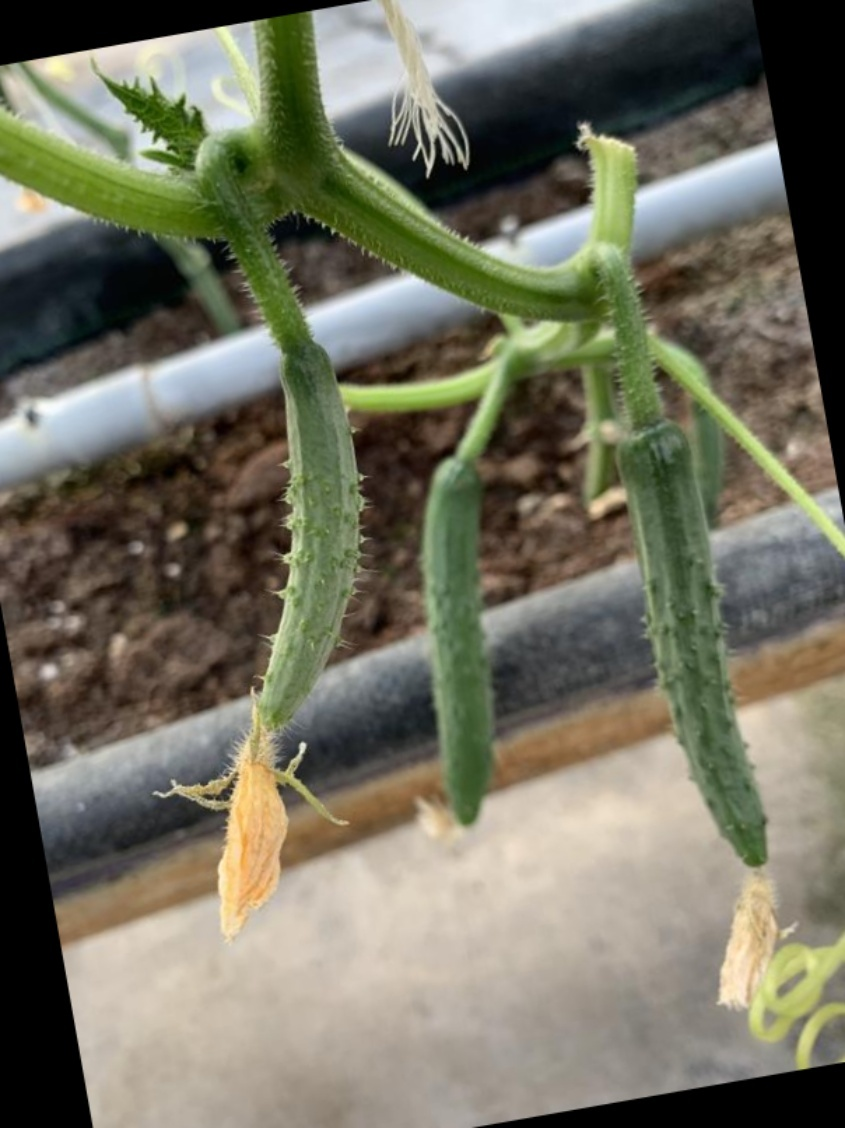bear: (164, 333, 403, 922)
